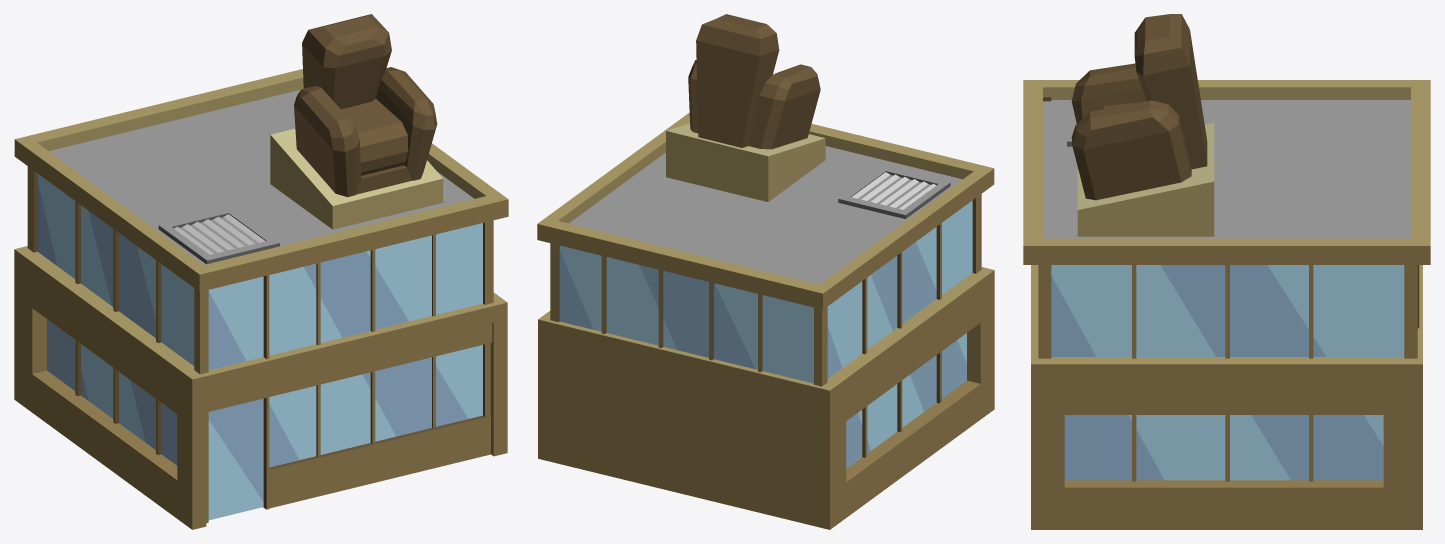
File: services_store_008.glb
3 renders of one model, left to right at view 1: azimuth 30°, elevation 25°; view 2: azimuth 150°, elevation 25°; view 3: azimuth 270°, elevation 25°, orthographic. The views are drawn at different scales.
Parts seen in each view (by area): view 1: services_store_008; view 2: services_store_008; view 3: services_store_008.
Part boxes in pixels (x1,y1,x2,y2): services_store_008: (14, 14, 508, 529); services_store_008: (537, 14, 994, 529); services_store_008: (1023, 14, 1430, 529).
Bounding box in the file's own units: 5.93 × 7.41 × 6.03.
Materials: 1 (1 with a texture image).
